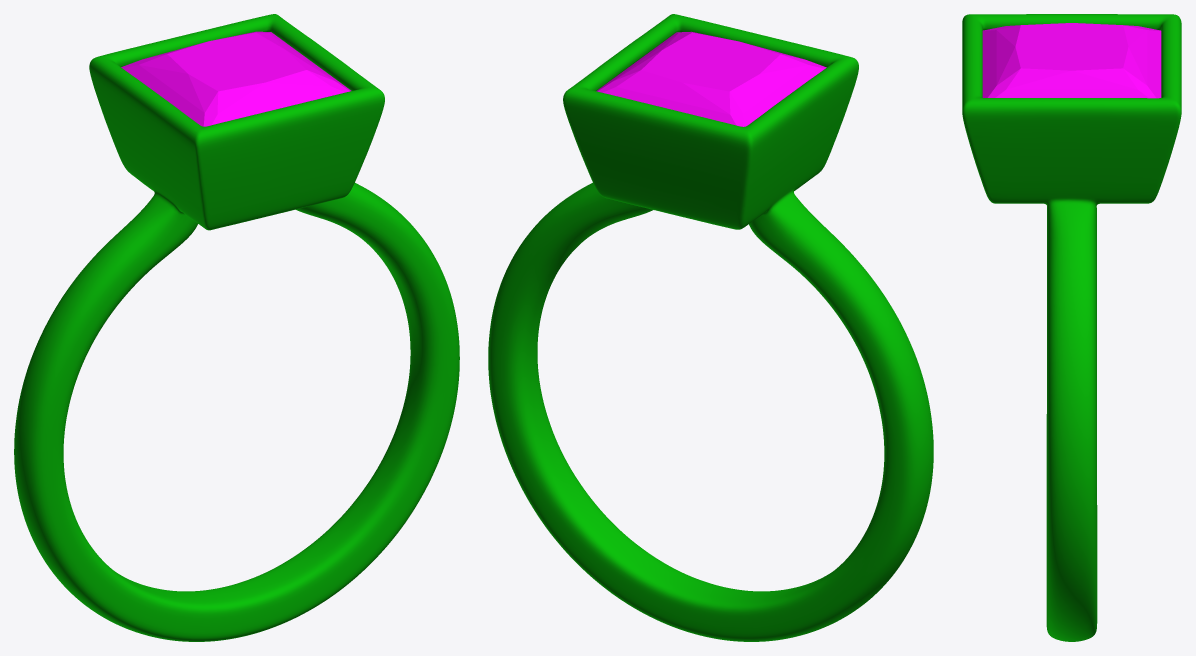
The model's file is BE1743_PR_200ct_RENDER.glb.
The picture shows the model from 3 angles, left to right: view 1: azimuth 30°, elevation 25°; view 2: azimuth 150°, elevation 25°; view 3: azimuth 270°, elevation 25°; orthographic projection.
Visible parts, largest first — view 1: Metal 01, CS_Diamond_Princess; view 2: Metal 01, CS_Diamond_Princess; view 3: Metal 01, CS_Diamond_Princess.
Boxes of the visible parts, <box> form: Metal 01: <box>14,14,459,641</box>; CS_Diamond_Princess: <box>121,31,351,126</box>; Metal 01: <box>488,14,933,641</box>; CS_Diamond_Princess: <box>596,31,826,126</box>; Metal 01: <box>962,14,1181,641</box>; CS_Diamond_Princess: <box>982,23,1161,98</box>.
Size of the model in its own units: 20.07 by 25.09 by 8.74.
